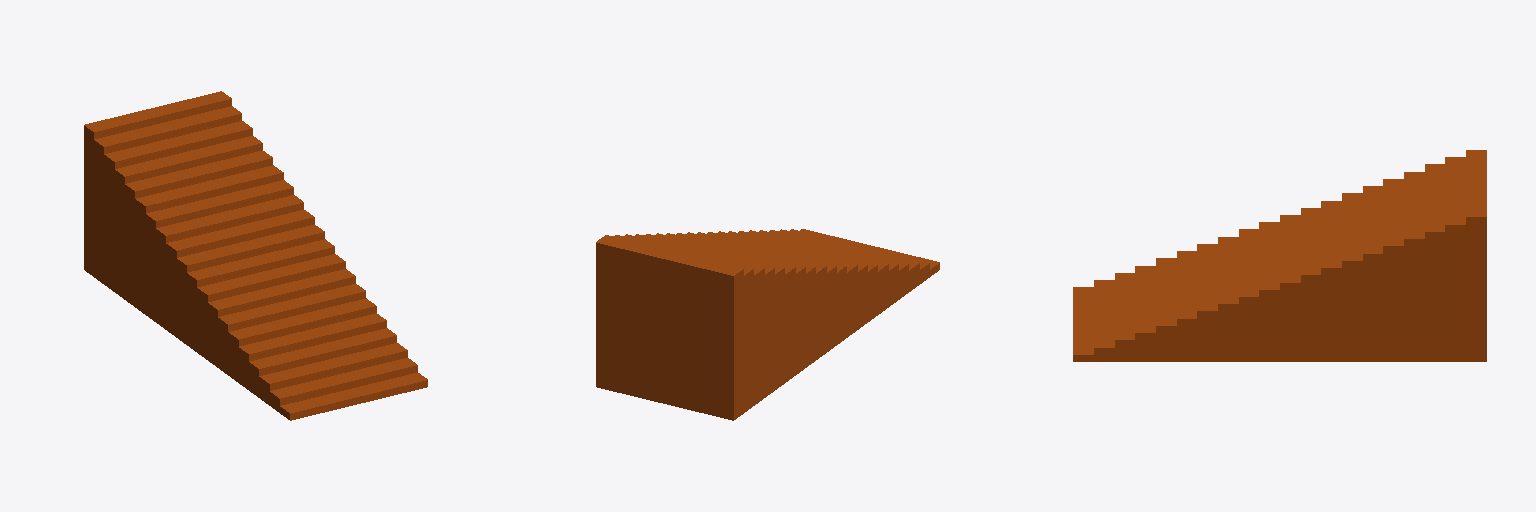
Rendered from fstStair2.obj.
3 renders of one model, left to right at view 1: azimuth 30°, elevation 25°; view 2: azimuth 150°, elevation 25°; view 3: azimuth 270°, elevation 25°, orthographic.
Visible parts, largest first — view 1: Box011; view 2: Box011; view 3: Box011.
Part boxes in pixels (x1,y1,x2,y2): Box011: (84,91,427,420); Box011: (596,229,939,420); Box011: (1073,150,1486,361).
Bounding box in the file's own units: 118 × 118 × 306.